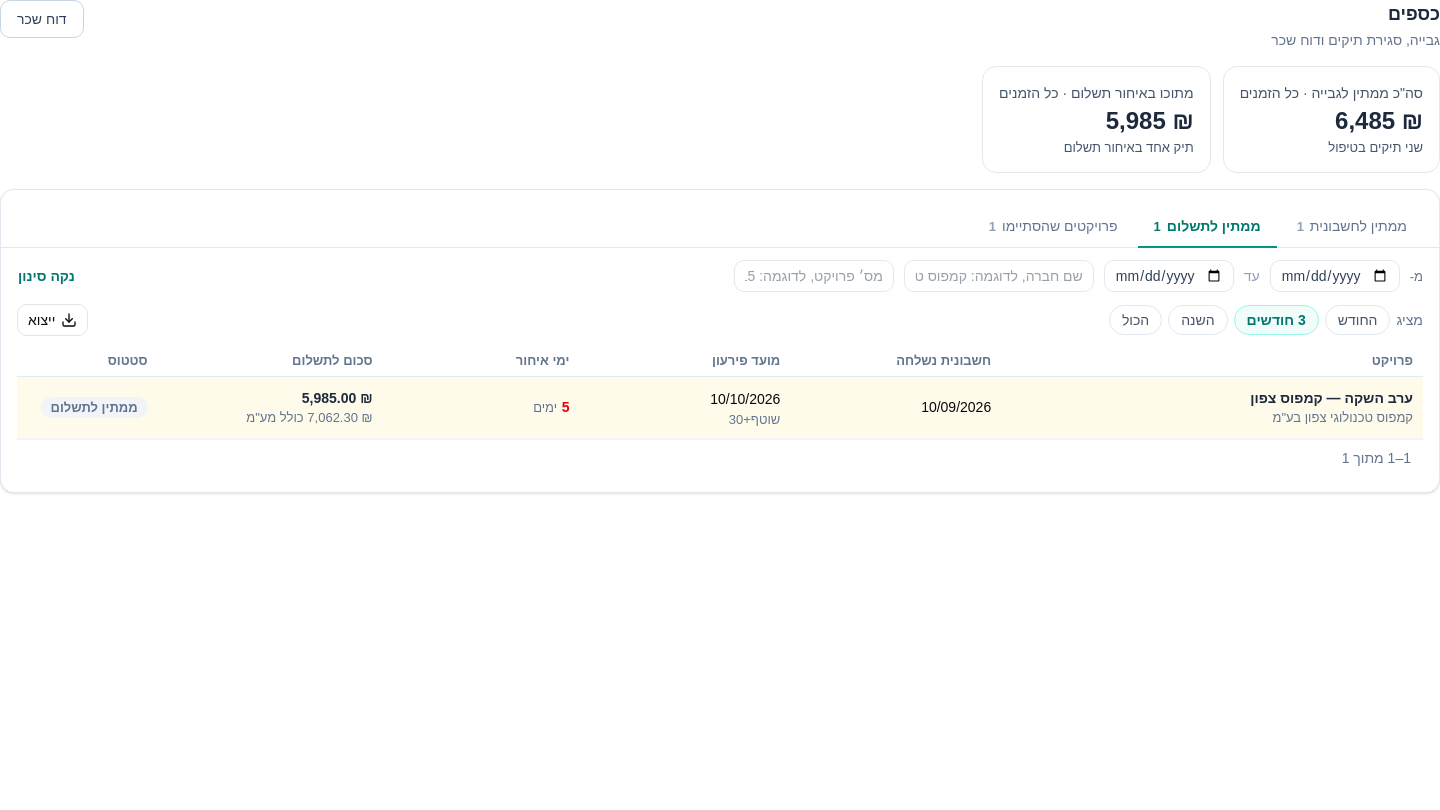
Test: FinancePage — חיבור לחלון-הייצוא, ליבה פר-לשונית › 🔴 המסך מציג "טוב" לציון 4 — והקובץ מקבל את אותה תווית, לא את המספר
This screenshot has width=1440, height=810.
Check: the table with test id "finance-table" is shown, box [17,346,1423,439]
Click the tab "פרויקטים שהסתיימו 1".
click(1053, 227)  # box [973,206,1134,248]
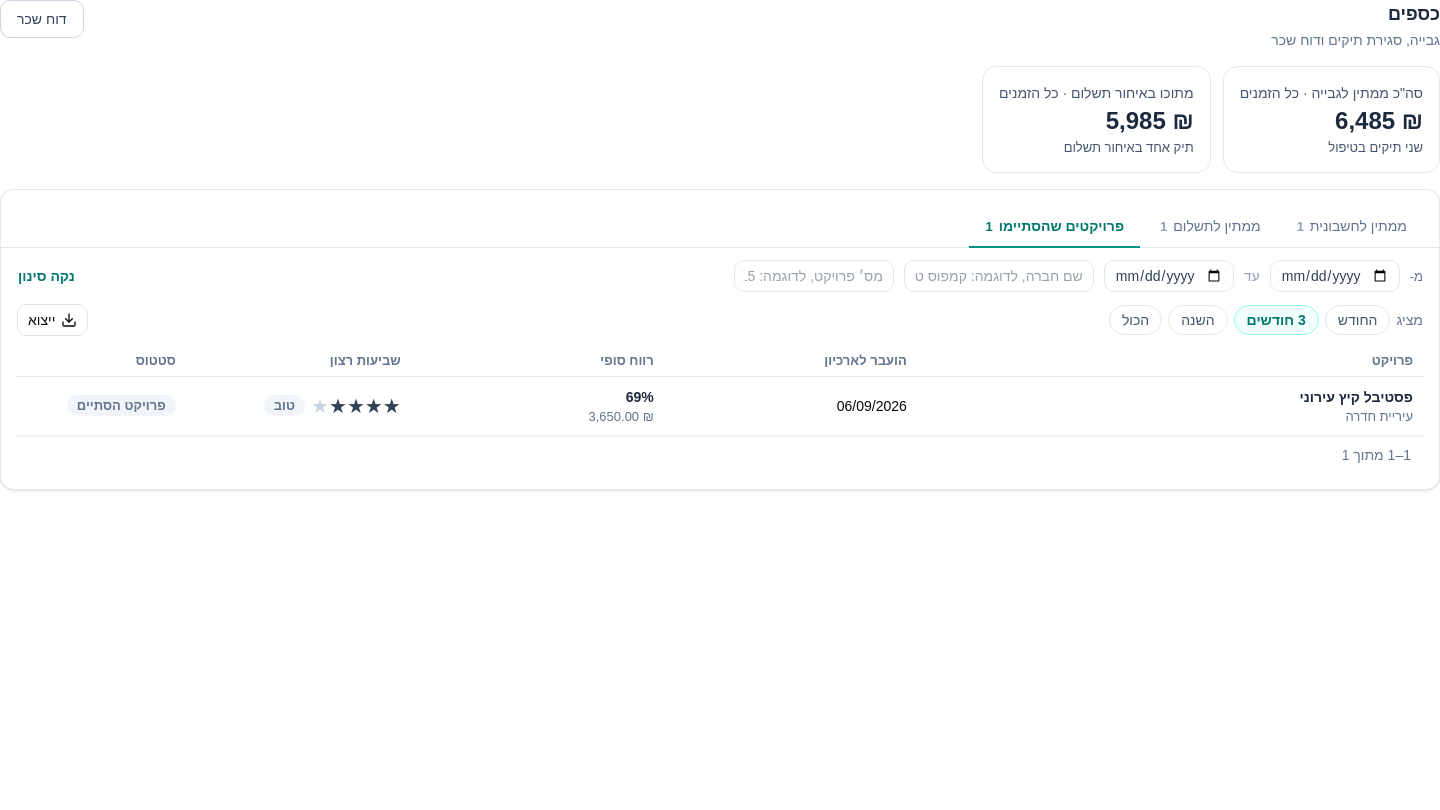
Click the button with test id "finance-export-button".
click(53, 320)  # box [17,304,88,336]
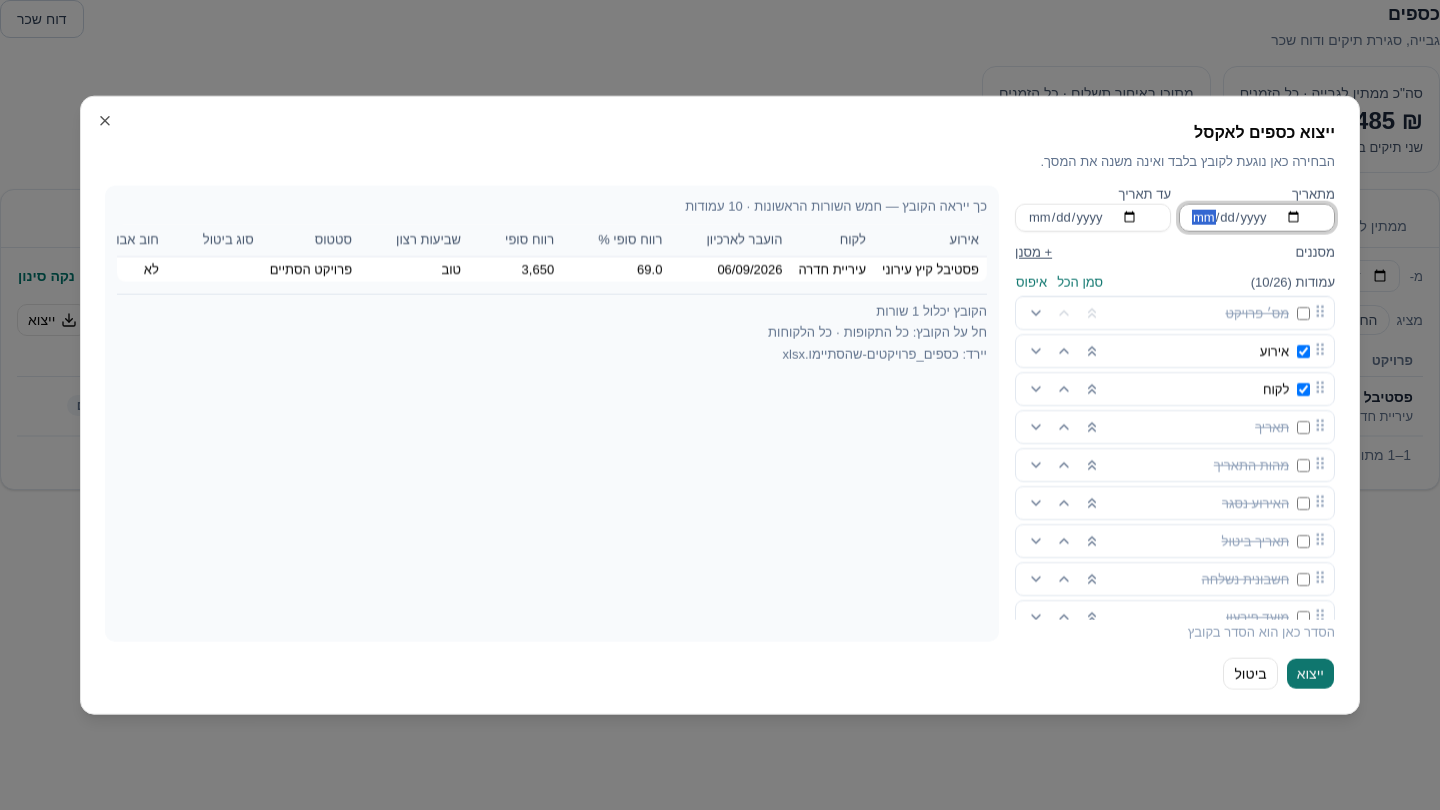
Check: the text "טוב" is shown, box [441,261,461,276]
